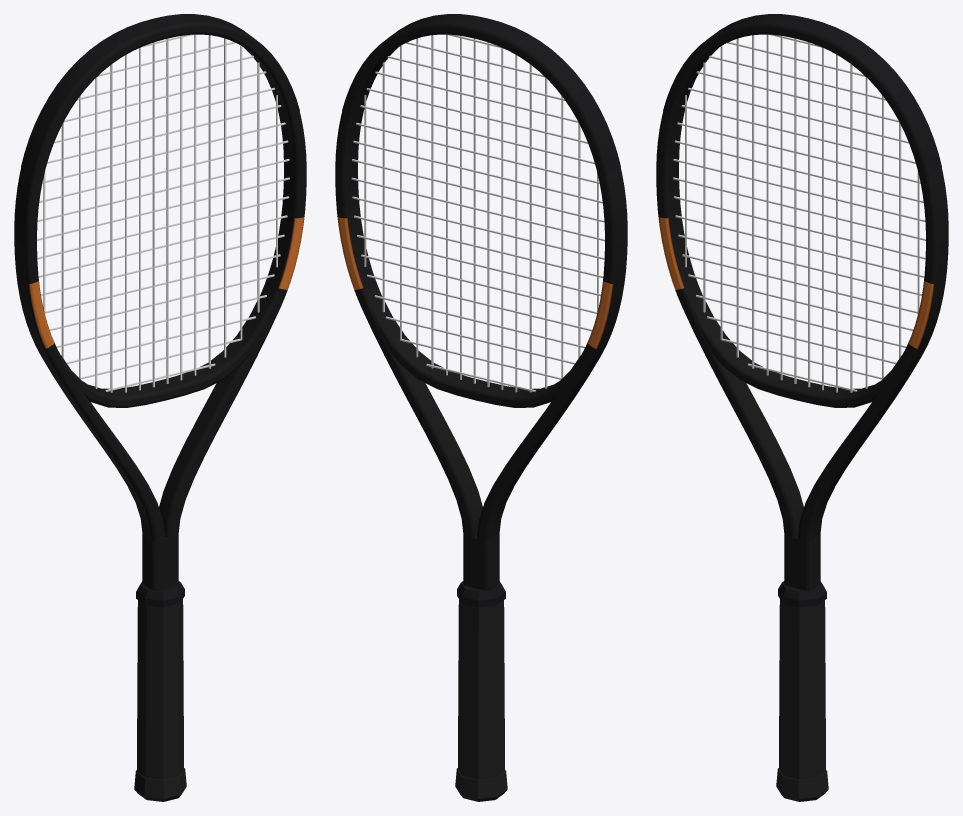
File: prince-tour-98-2026.glb
3 views of the same model, side by side, from view 1: azimuth 30°, elevation 25°; view 2: azimuth 150°, elevation 25°; view 3: azimuth 330°, elevation 25° (orthographic).
Visible parts, largest first — view 1: frame, strings_mains, strings_crosses, grip, bumper, butt_cap, collar; view 2: frame, strings_mains, strings_crosses, grip, bumper, butt_cap, collar; view 3: frame, strings_mains, strings_crosses, grip, bumper, butt_cap, collar.
Part boxes in pixels (<box>): frame: <box>14,27,306,590</box>; strings_mains: <box>43,34,277,392</box>; strings_crosses: <box>37,34,289,391</box>; grip: <box>137,599,183,779</box>; bumper: <box>21,14,299,176</box>; butt_cap: <box>134,768,186,801</box>; collar: <box>136,581,184,607</box>; frame: <box>335,27,627,590</box>; strings_mains: <box>364,34,598,392</box>; strings_crosses: <box>351,34,604,392</box>; grip: <box>458,599,504,779</box>; bumper: <box>342,14,620,176</box>; butt_cap: <box>455,768,507,801</box>; collar: <box>457,581,505,607</box>; frame: <box>656,27,948,590</box>; strings_mains: <box>685,34,919,392</box>; strings_crosses: <box>673,34,925,391</box>; grip: <box>779,599,825,779</box>; bumper: <box>663,14,941,176</box>; butt_cap: <box>776,768,828,801</box>; collar: <box>778,581,826,607</box>.
Bounding box in the file's own units: 0.2625 × 0.6861 × 0.0396.
